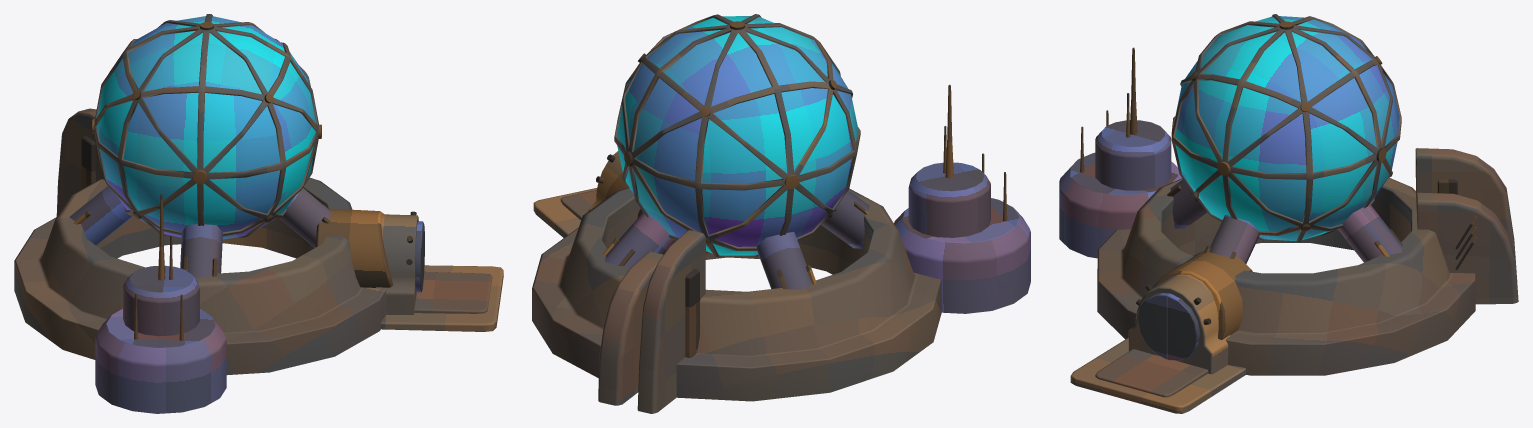
The model's file is mars_building_research.glb.
3 renders of one model, left to right at view 1: azimuth 30°, elevation 25°; view 2: azimuth 150°, elevation 25°; view 3: azimuth 270°, elevation 25°, orthographic. The views are drawn at different scales.
Visible parts, largest first — view 1: Research_center; view 2: Research_center; view 3: Research_center.
Boxes of the visible parts, x1,y1,x2,y2 form: Research_center: (14, 14, 503, 413); Research_center: (532, 14, 1030, 413); Research_center: (1059, 14, 1518, 413).
Bounding box in the file's own units: 15.65 × 9.53 × 14.62.
1 material, 1 textured.
